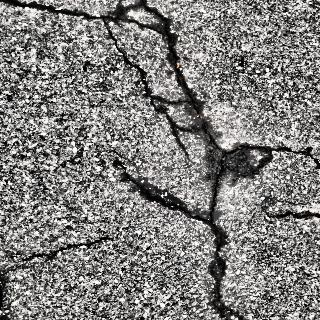crack: (191, 213, 246, 320), (1, 0, 112, 23), (22, 237, 108, 263), (216, 143, 320, 164), (162, 38, 190, 92), (112, 13, 173, 37), (189, 94, 217, 144), (115, 160, 152, 194), (134, 63, 158, 109), (209, 162, 228, 216), (147, 196, 191, 214), (112, 38, 134, 66), (275, 210, 320, 222), (102, 22, 118, 38)
